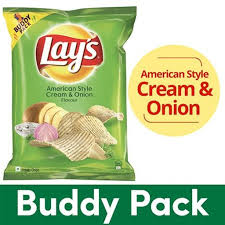lays-med: (2, 8, 134, 178)
